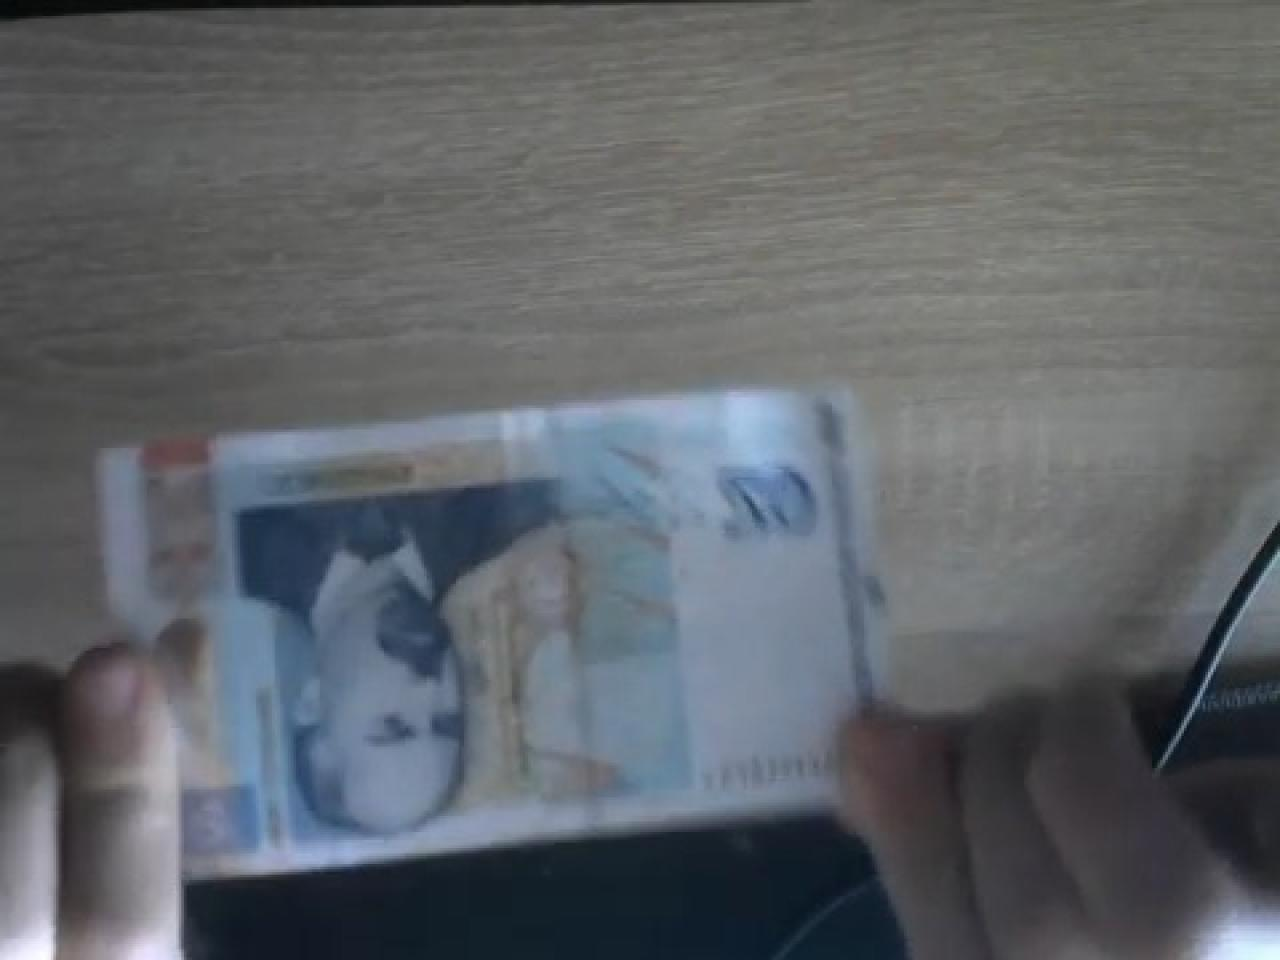20leva: (141, 386, 797, 923)
